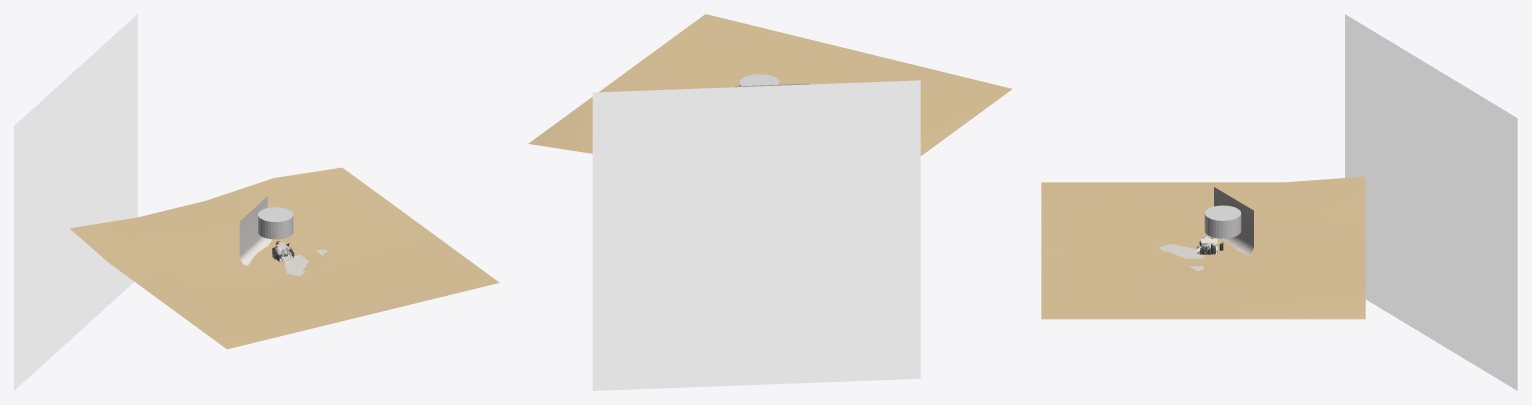
Rendered from juma.glb.
The picture shows the model from 3 angles, left to right: view 1: azimuth 30°, elevation 25°; view 2: azimuth 150°, elevation 25°; view 3: azimuth 270°, elevation 25°; orthographic projection. The views are drawn at different scales.
Visible parts, largest first — view 1: Plane.004, Plane.003, Plane.001, Cylinder.001, Plane.002; view 2: Plane.003, Plane.004; view 3: Plane.003, Plane.004, Plane.001, Cylinder.001, Plane.002.
Boxes of the visible parts, box(x1,y1,x2,y2) form: Plane.004: box(70, 167, 499, 349); Plane.003: box(14, 14, 137, 390); Plane.001: box(239, 196, 327, 276); Cylinder.001: box(258, 207, 293, 239); Plane.002: box(236, 239, 332, 275); Plane.003: box(592, 80, 920, 390); Plane.004: box(528, 14, 1012, 155); Plane.003: box(1345, 14, 1517, 390); Plane.004: box(1041, 176, 1365, 319); Plane.001: box(1158, 187, 1253, 271); Cylinder.001: box(1204, 205, 1241, 238); Plane.002: box(1166, 235, 1240, 266).
Bounding box in the file's own units: 118 × 88.17 × 139.
